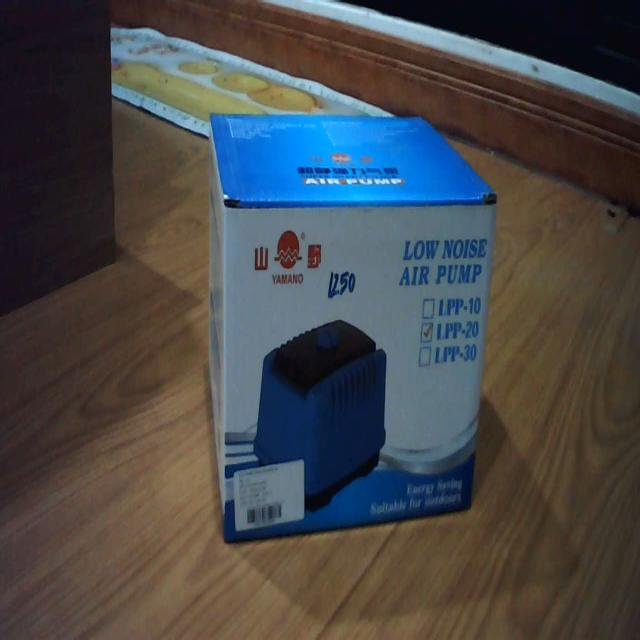YAMANO_LPP_20: (202, 82, 502, 554)
